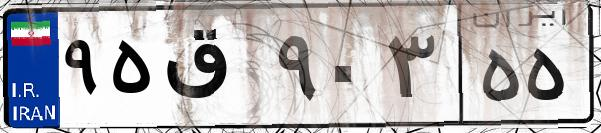0: (330, 28, 385, 110)
3: (385, 28, 445, 110)
5: (475, 38, 525, 113), (525, 38, 570, 115), (110, 28, 158, 98)
9: (270, 28, 330, 110), (57, 26, 110, 100)
ق: (158, 20, 270, 120)
